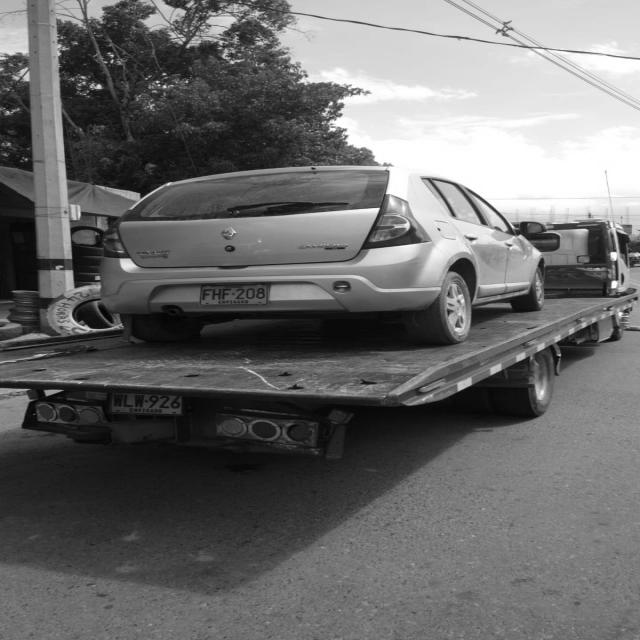plate: (194, 279, 274, 309)
